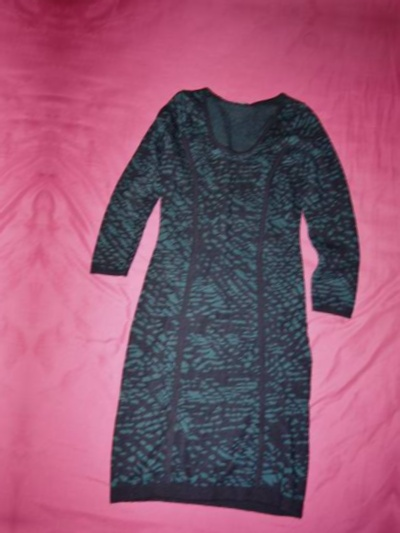Dress: (63, 65, 396, 533), (0, 28, 9, 497)
